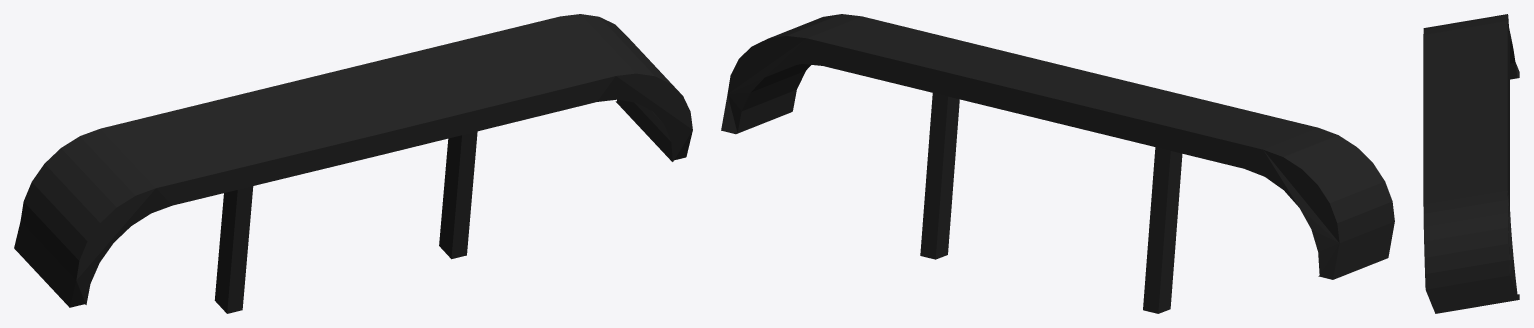
The model's file is spoiler1.glb.
The picture shows the model from 3 angles, left to right: view 1: azimuth 30°, elevation 25°; view 2: azimuth 150°, elevation 25°; view 3: azimuth 270°, elevation 25°; orthographic projection. The views are drawn at different scales.
Parts seen in each view (by area): view 1: spoiler1; view 2: spoiler1; view 3: spoiler1.
Boxes of the visible parts, x1=… form: spoiler1: x1=14, y1=14, x2=692, y2=313; spoiler1: x1=721, y1=14, x2=1394, y2=313; spoiler1: x1=1423, y1=14, x2=1519, y2=313.
Size of the model in its own units: 2.18 by 0.6751 by 0.3912.
Materials: 1 (1 with a texture image).
